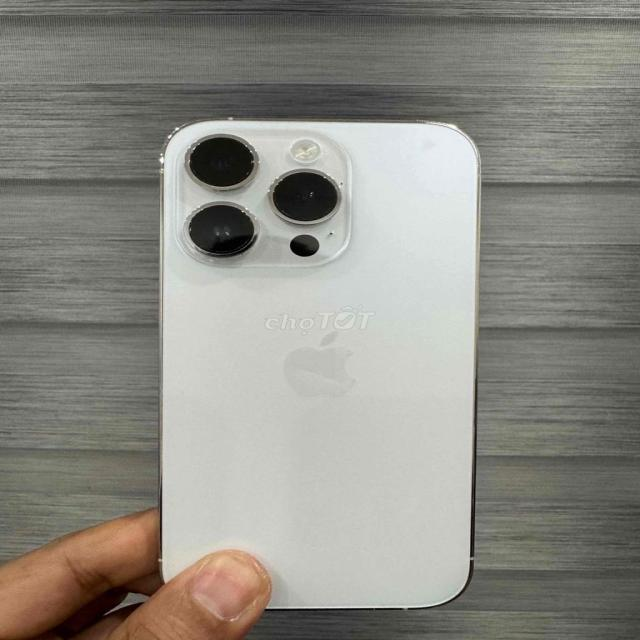gen_14: (144, 113, 493, 613)
